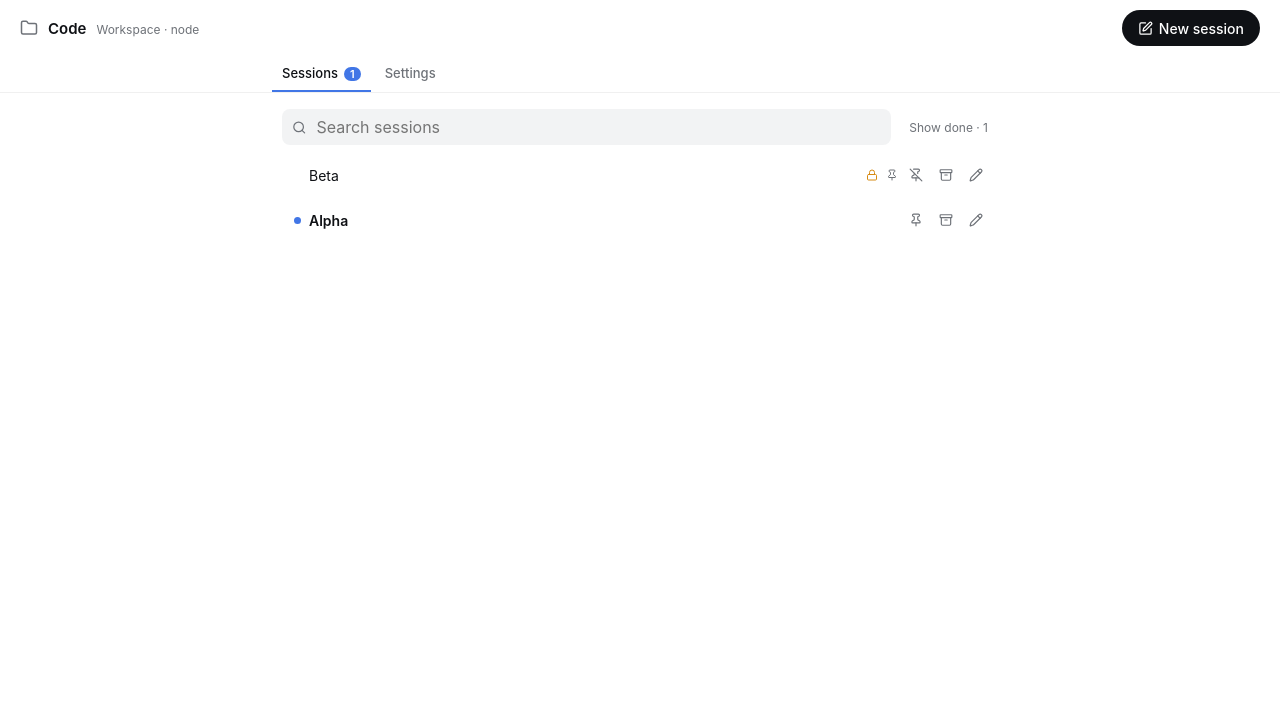
Test case: WorkspacePage › shows a directory workspace's facts and project config under Settings
Click the tab "Settings".
click(410, 74)  # box [375,56,446,92]
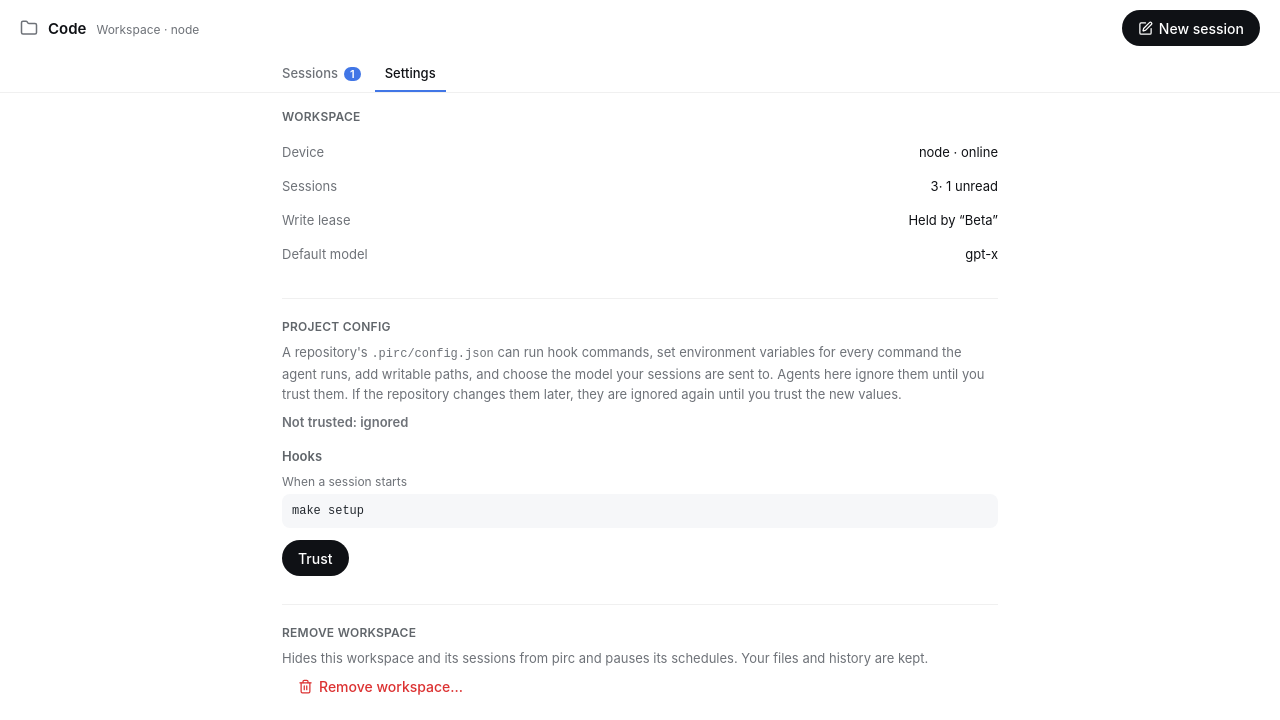
Now the element with class "facts" shows "node · online", box [919,144,998,160]
Now the element with class "facts" shows "Held by “Beta”", box [908,212,998,228]
Now the element with class "facts" shows "gpt-x", box [965,246,998,262]
